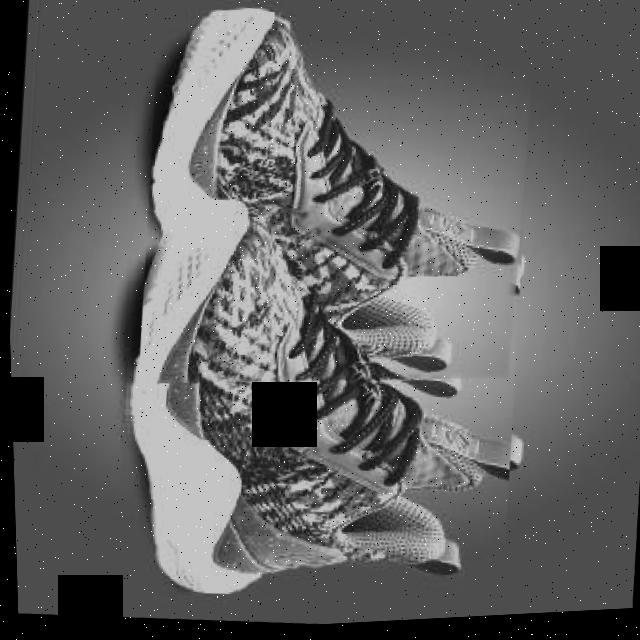shoe: (97, 188, 531, 625), (127, 0, 545, 418)
